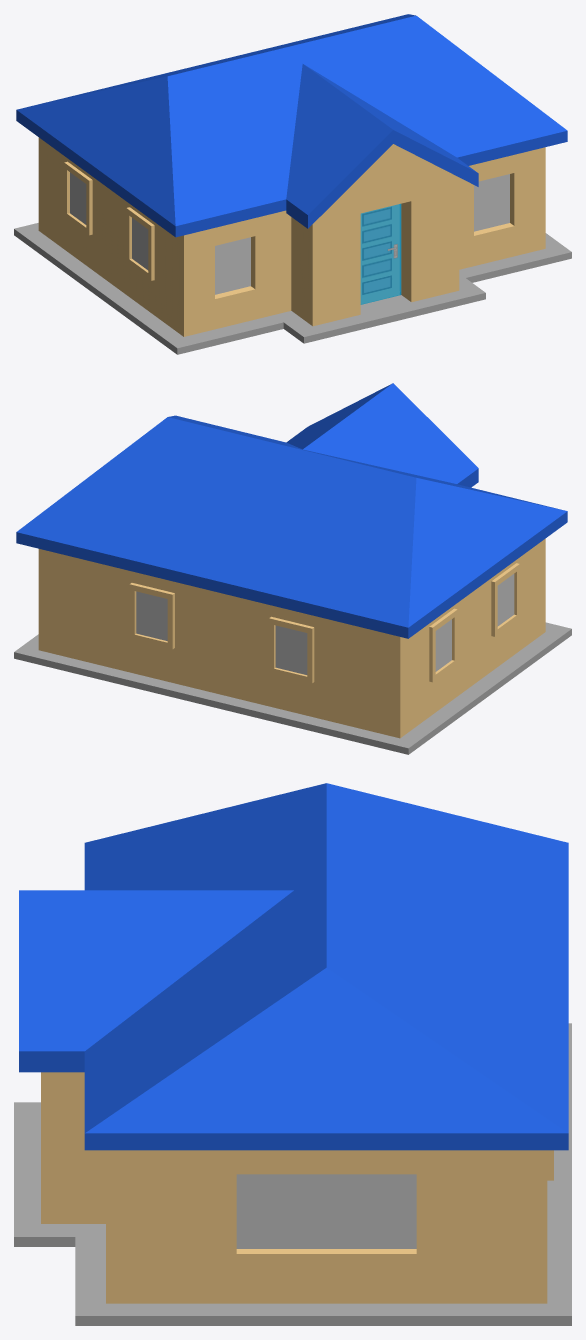
Rendered from Town_Bld_House_A.FBX.
3 views of the same model, one above another, from view 1: azimuth 30°, elevation 25°; view 2: azimuth 150°, elevation 25°; view 3: azimuth 270°, elevation 25° (orthographic). The views are drawn at different scales.
Parts seen in each view (by area): view 1: Town_Bld_House_A; view 2: Town_Bld_House_A; view 3: Town_Bld_House_A.
Part boxes in pixels (box(x1,y1,x2,y2)): Town_Bld_House_A: box(14, 14, 571, 354); Town_Bld_House_A: box(14, 383, 571, 754); Town_Bld_House_A: box(14, 783, 571, 1325).
Bounding box in the file's own units: 533 × 259 × 430.
